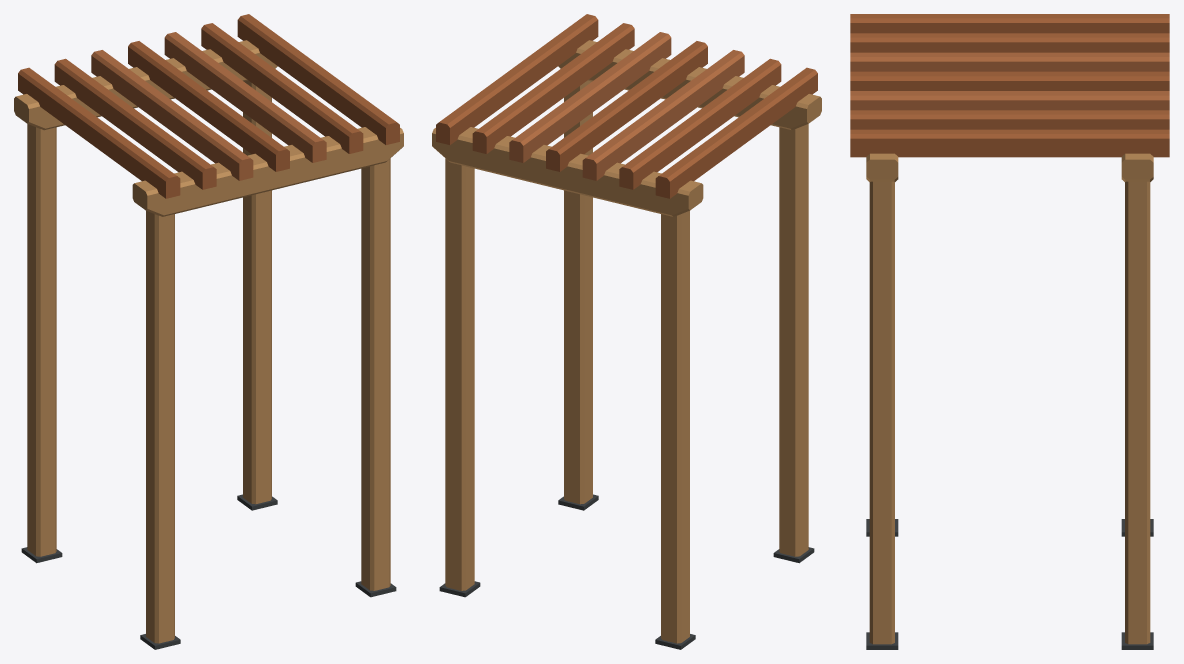
Rendered from pergola-bay-module-1ad452.glb.
The picture shows the model from 3 angles, left to right: view 1: azimuth 30°, elevation 25°; view 2: azimuth 150°, elevation 25°; view 3: azimuth 270°, elevation 25°; orthographic projection. The views are drawn at different scales.
Parts seen in each view (by area): view 1: pergola-bay-module; view 2: pergola-bay-module; view 3: pergola-bay-module.
Part boxes in pixels (<box>): pergola-bay-module: <box>14,14,403,649</box>; pergola-bay-module: <box>432,14,821,649</box>; pergola-bay-module: <box>850,14,1169,649</box>.
Bounding box in the file's own units: 2 × 3.55 × 2.
